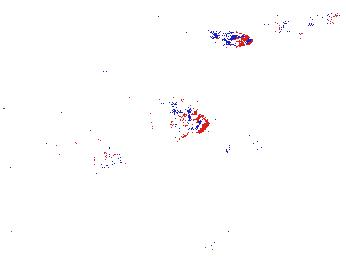X-ray fish: (128, 90, 207, 141), (53, 126, 128, 175), (198, 224, 249, 252), (7, 231, 40, 255)
red belly glassfish: (212, 30, 255, 49)
redtail glassfish: (273, 10, 342, 37)
